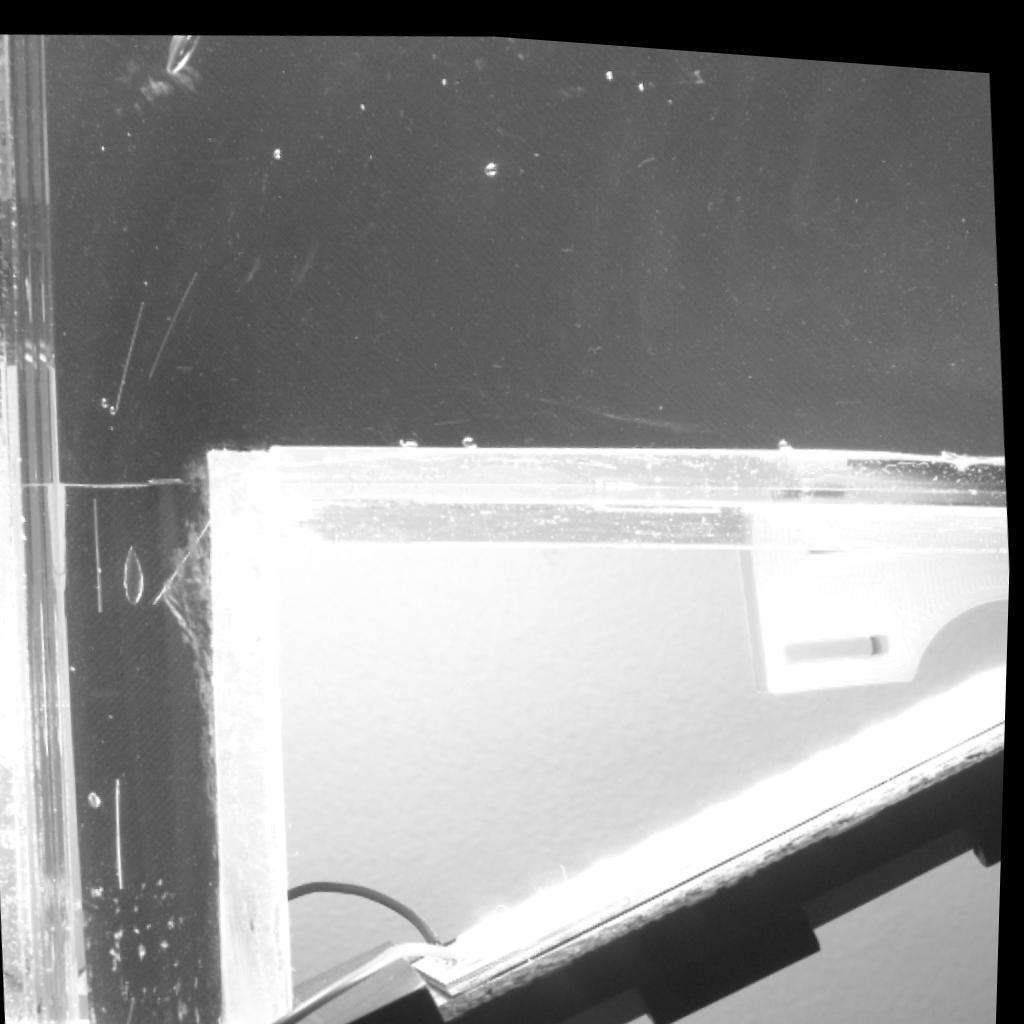Fiber: (150, 508, 217, 606), (148, 267, 202, 377), (112, 298, 149, 413), (94, 496, 112, 612), (120, 777, 131, 889), (128, 992, 144, 1024)
